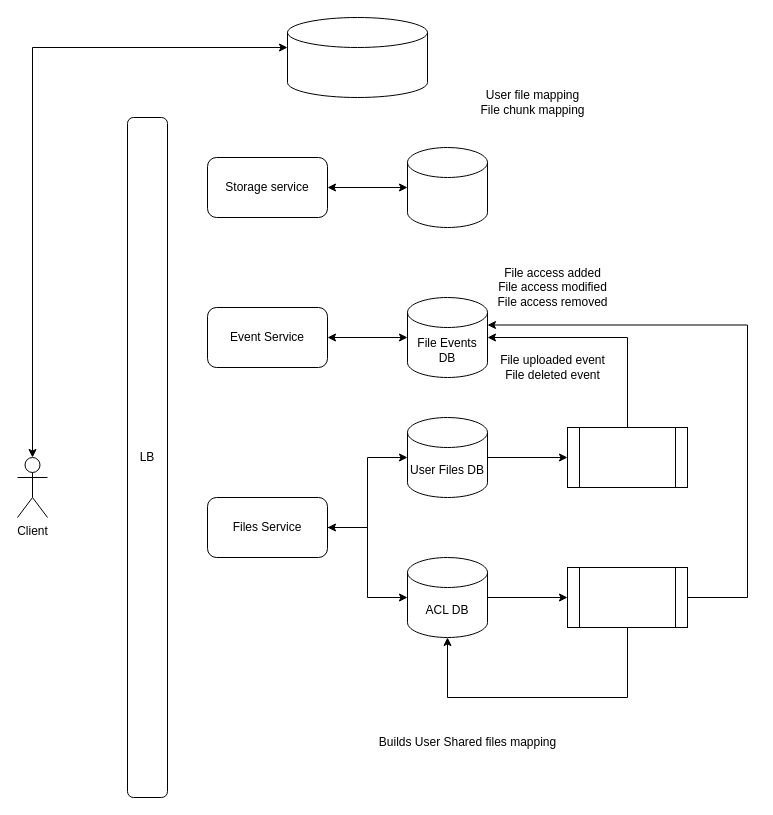
This 773x815 diagram has some shape labels left out. The centre of each missing label's shape, as x and y in pixels:
CDC on File ACL: [627,597]
CDC on File mapping: [627,457]
Chunks MongoDB: [447,187]
Files Object Store: [357,57]
